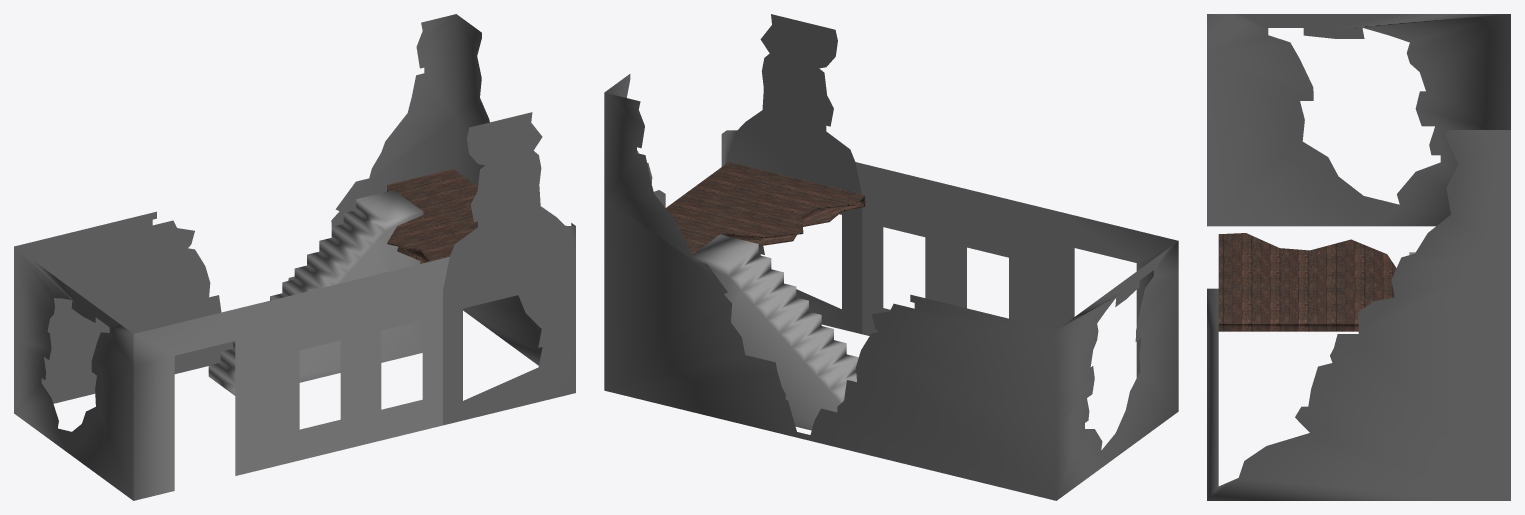
File: Ruin4_lod02.fbx
3 views of the same model, side by side, from view 1: azimuth 30°, elevation 25°; view 2: azimuth 150°, elevation 25°; view 3: azimuth 270°, elevation 25° (orthographic). The views are drawn at different scales.
Parts seen in each view (by area): view 1: Default_Layer; view 2: Default_Layer; view 3: Default_Layer.
Part boxes in pixels (bbox=[...]): Default_Layer: bbox=[14, 14, 575, 500]; Default_Layer: bbox=[604, 14, 1178, 500]; Default_Layer: bbox=[1207, 14, 1510, 500].
Size of the model in its own units: 1078 by 679 by 504.
